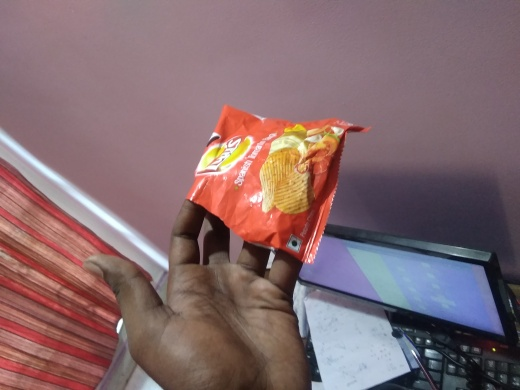lays: (167, 98, 380, 239)
